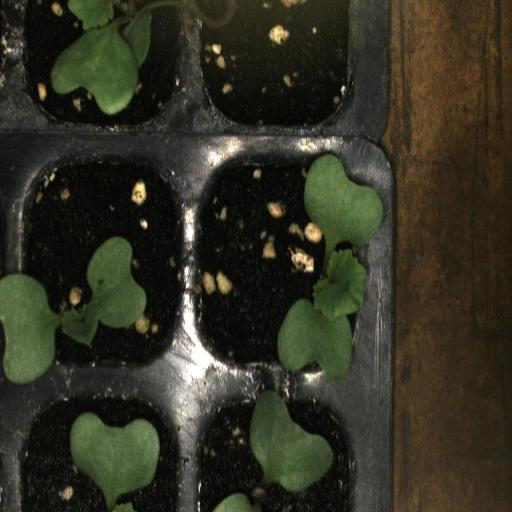seedling: (188, 136, 377, 383), (11, 136, 188, 388)
